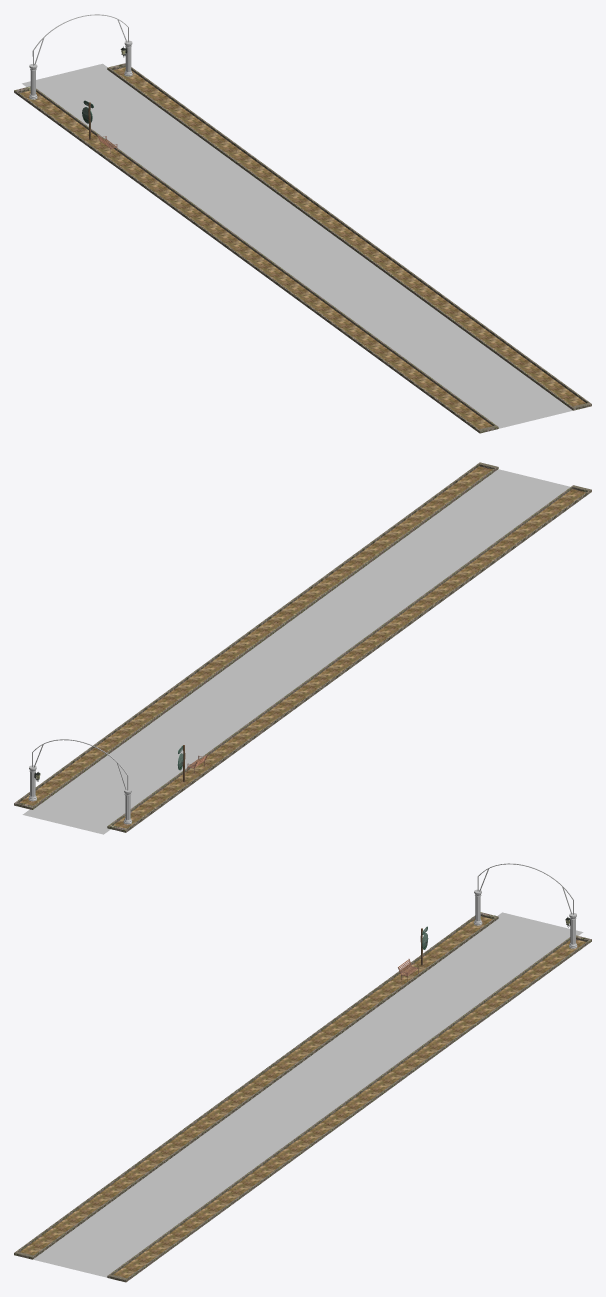
File: PTCL.FBX
3 views of the same model, one above another, from view 1: azimuth 30°, elevation 25°; view 2: azimuth 150°, elevation 25°; view 3: azimuth 330°, elevation 25° (orthographic).
Parts seen in each view (by area): view 1: Plane001, Box033, Box030; view 2: Plane001, Box033, Box030; view 3: Plane001, Box033, Box030.
Boxes of the visible parts, bbox=[...] form: Plane001: bbox=[22, 63, 572, 428]; Box033: bbox=[107, 63, 591, 410]; Box030: bbox=[14, 86, 498, 433]; Plane001: bbox=[22, 469, 570, 834]; Box033: bbox=[14, 462, 498, 809]; Box030: bbox=[107, 485, 591, 832]; Plane001: bbox=[33, 912, 583, 1277]; Box033: bbox=[107, 935, 591, 1282]; Box030: bbox=[14, 912, 498, 1259].
Bounding box in the file's own units: 845 × 531 × 6178.
